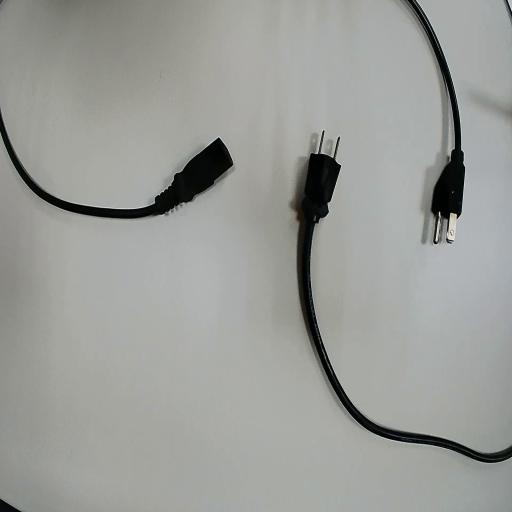wire: (295, 153, 511, 461), (408, 0, 463, 219)
